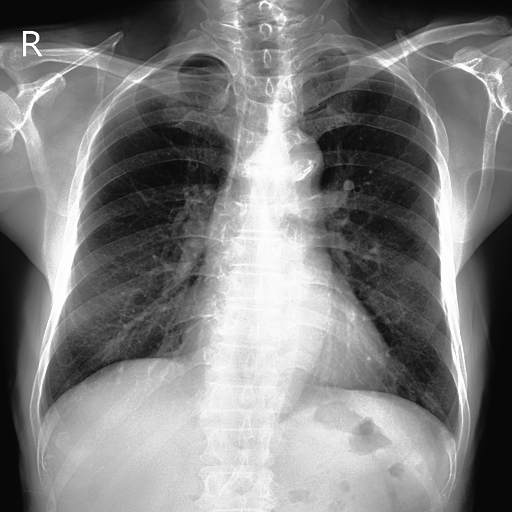Consolidation: (268, 134, 325, 192)
